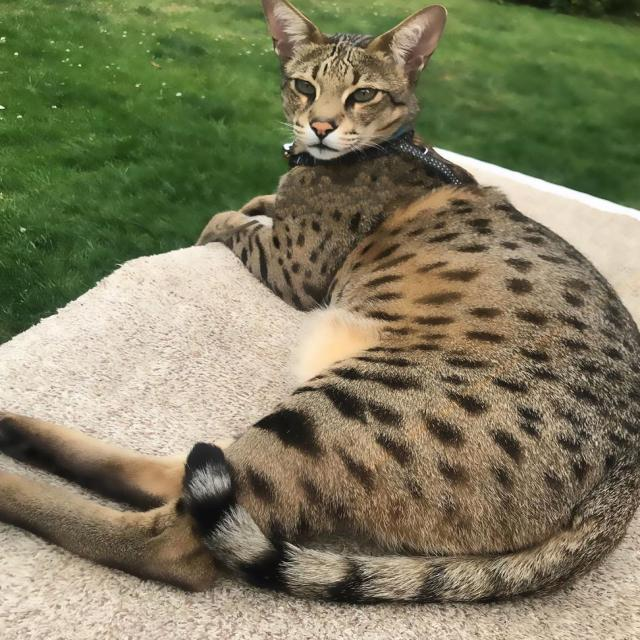Savannah: (0, 0, 640, 613)
